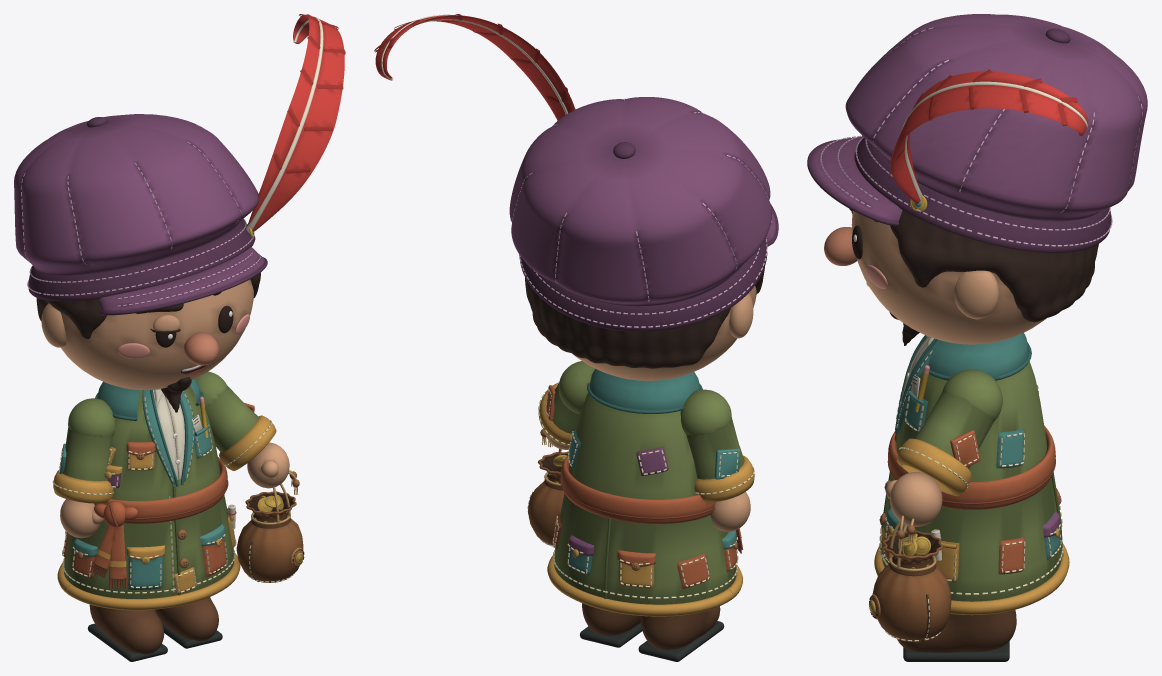
The model's file is merchant.glb.
3 renders of one model, left to right at view 1: azimuth 30°, elevation 25°; view 2: azimuth 150°, elevation 25°; view 3: azimuth 270°, elevation 25°, orthographic. The views are drawn at different scales.
Visible parts, largest first — view 1: head, body, arm_r, arm_l, purse, leg_r, leg_l; view 2: head, body, arm_r, leg_r, arm_l, purse, leg_l; view 3: head, body, arm_l, purse, leg_l.
Boxes of the visible parts, x1,y1,x2,y2 form: head: (14, 14, 345, 412); body: (57, 379, 240, 610); arm_r: (52, 398, 115, 538); arm_l: (196, 371, 289, 488); purse: (236, 470, 304, 582); leg_r: (87, 604, 167, 661); leg_l: (155, 597, 222, 648); head: (374, 14, 778, 380); body: (547, 369, 743, 616); arm_r: (680, 389, 754, 531); leg_r: (638, 606, 724, 661); arm_l: (538, 361, 594, 449); purse: (527, 429, 569, 546); leg_l: (580, 603, 642, 647); head: (807, 14, 1147, 345); body: (874, 332, 1069, 615); arm_l: (885, 369, 1002, 526); purse: (869, 515, 951, 641); leg_l: (897, 610, 1016, 661).
Bounding box in the file's own units: 1.07 × 1.73 × 0.7998.
